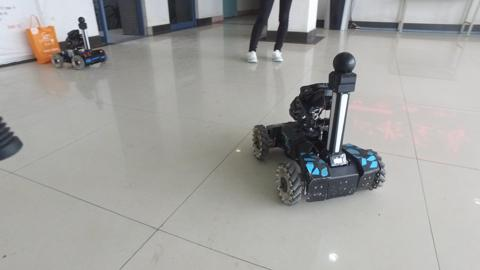bag: (23, 13, 62, 65)
chariot: (250, 50, 386, 205), (50, 15, 109, 69)
